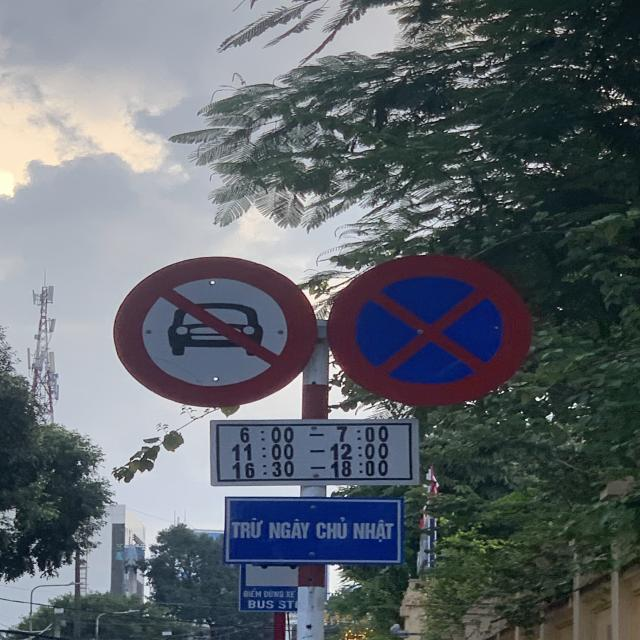Cam_Dung_Va_Dau_Xe: (328, 253, 528, 407)
Cam_O_To: (110, 254, 318, 406)
